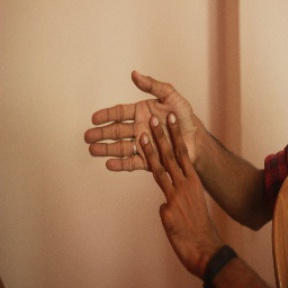M: (83, 67, 207, 203)
